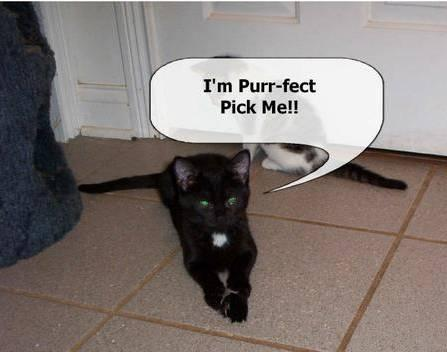cat: (136, 150, 259, 323)
